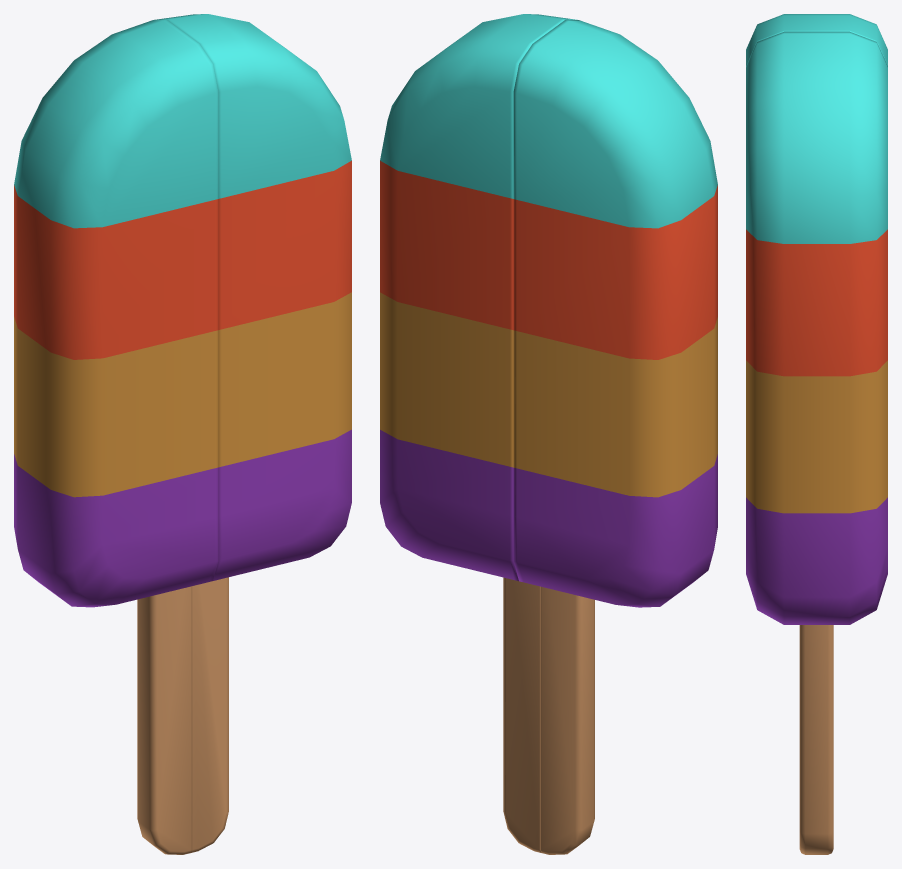
The model's file is SM_Icecream_01a.fbx.
3 views of the same model, side by side, from view 1: azimuth 30°, elevation 25°; view 2: azimuth 150°, elevation 25°; view 3: azimuth 270°, elevation 25° (orthographic).
Visible parts, largest first — view 1: Icecream_01, Icecream_02; view 2: Icecream_01, Icecream_02; view 3: Icecream_02, Icecream_01.
Part boxes in pixels (x1,y1,x2,y2): Icecream_01: (14,19,218,854); Icecream_02: (154,14,351,852); Icecream_01: (513,19,717,854); Icecream_02: (380,14,577,852); Icecream_02: (746,31,887,854); Icecream_01: (746,14,887,65).
Size of the model in its own units: 18.06 by 47.41 by 7.47.
